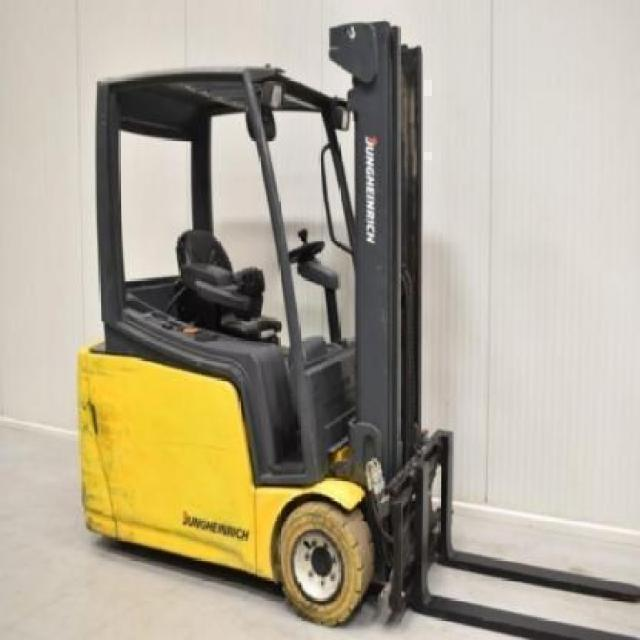forklift: (78, 24, 425, 629)
